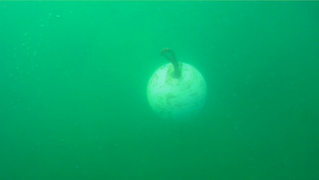buoy: (145, 61, 208, 123)
